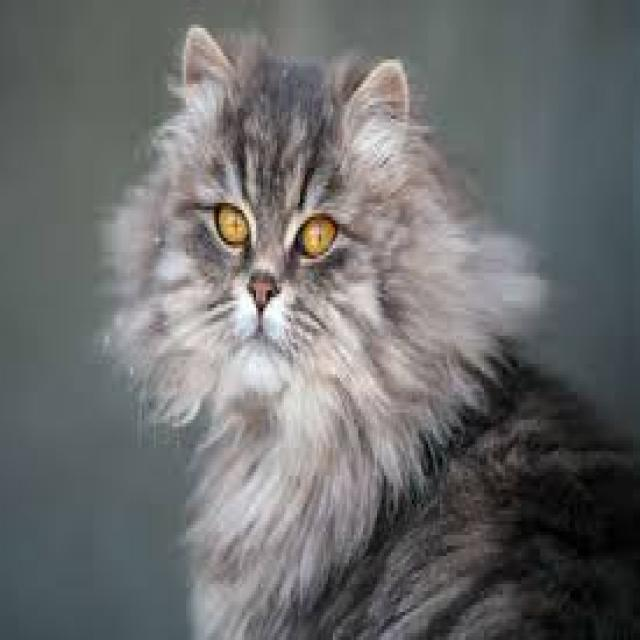Cat: (89, 14, 640, 639)
